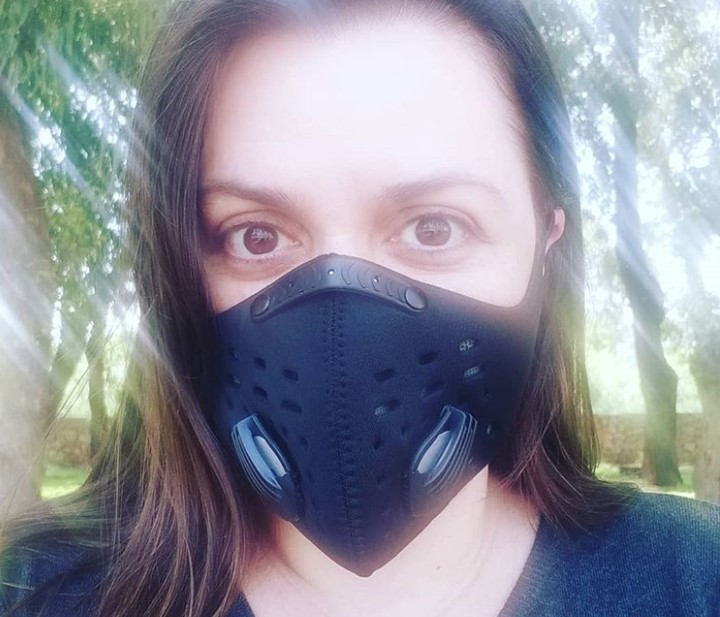face_with_mask: (128, 0, 579, 579)
